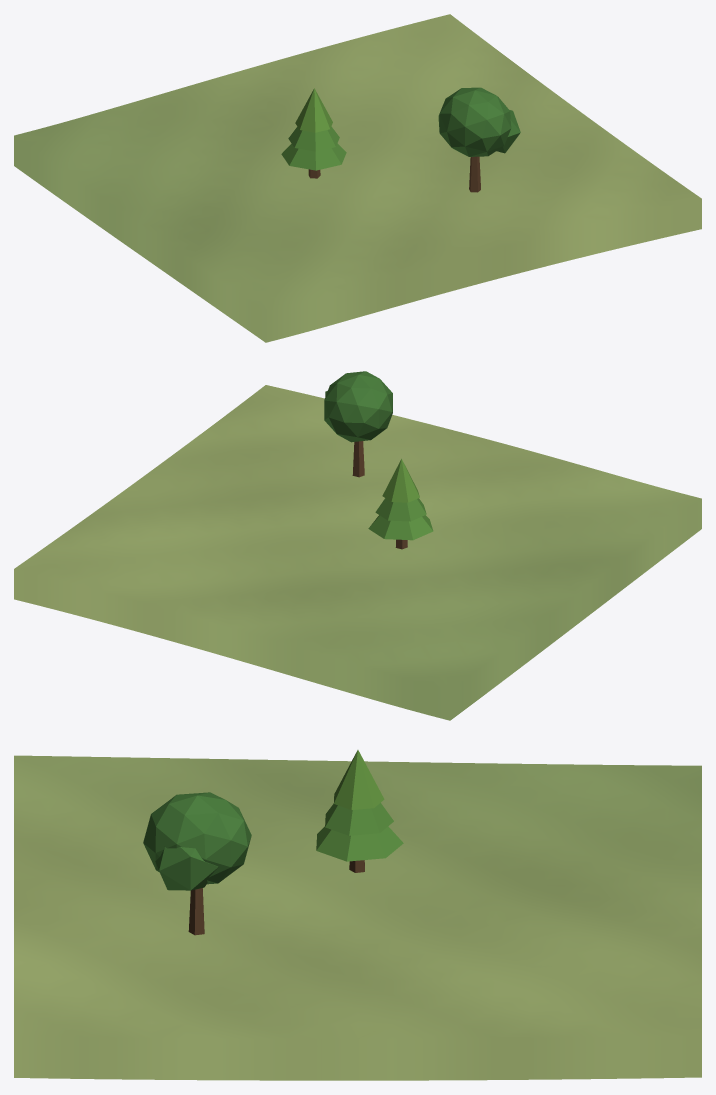
3 views of the same model, one above another, from view 1: azimuth 30°, elevation 25°; view 2: azimuth 150°, elevation 25°; view 3: azimuth 270°, elevation 25° (orthographic). The views are drawn at different scales.
Parts seen in each view (by area): view 1: terrain, scenery; view 2: terrain, scenery; view 3: terrain, scenery.
Boxes of the visible parts, x1,y1,x2,y2 form: terrain: (14, 14, 701, 342); scenery: (281, 87, 520, 192); terrain: (14, 385, 701, 720); scenery: (324, 371, 433, 549); terrain: (14, 755, 701, 1080); scenery: (143, 750, 403, 935).
Size of the model in its own units: 30 by 9.43 by 30.
